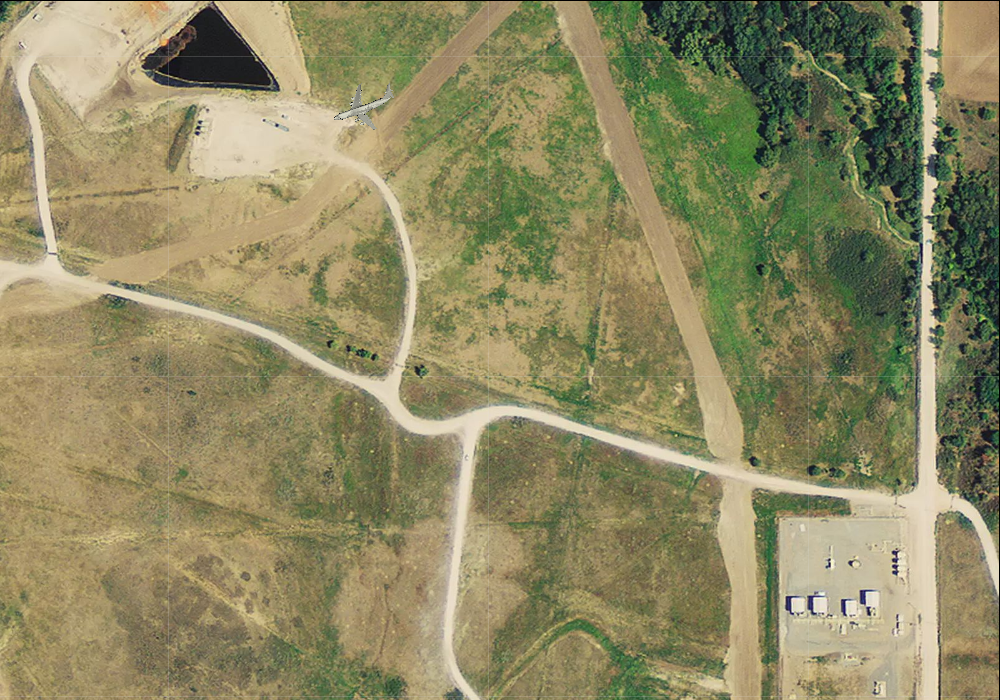plane: (322, 66, 404, 143)
